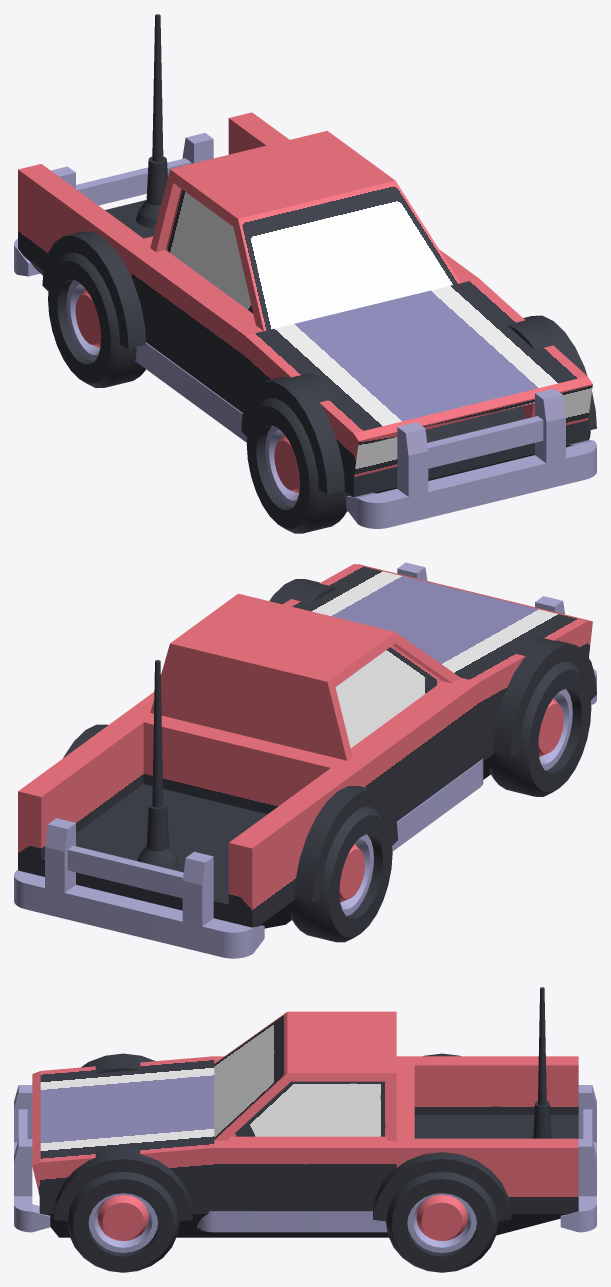
The model's file is race_pickup_01-red.fbx.
The picture shows the model from 3 angles, top to bottom: view 1: azimuth 30°, elevation 25°; view 2: azimuth 150°, elevation 25°; view 3: azimuth 270°, elevation 25°; orthographic projection. The views are drawn at different scales.
Visible parts, largest first — view 1: body_frontSports, body_topStandard, bumper_large (×2), wheel_classic (×2), body_standard, wheel_coverStandard (×3), body_backBed, bumper, detail_antenna; view 2: body_backBed, body_topStandard, body_frontSports, wheel_classic (×2), bumper_large (×2), body_standard, wheel_coverStandard (×3), detail_antenna, bumper; view 3: body_backBed, body_topStandard, body_frontSports, wheel_classic (×2), body_standard, wheel_coverStandard (×3), bumper_large (×2), bumper, detail_antenna.
Boxes of the visible parts, bbox=[...] form: body_frontSports: bbox=[245, 278, 592, 511]; body_topStandard: bbox=[150, 130, 460, 330]; bumper_large (×2): bbox=[14, 133, 596, 528]; wheel_classic (×2): bbox=[48, 252, 347, 533]; body_standard: bbox=[131, 248, 478, 412]; wheel_coverStandard (×3): bbox=[42, 231, 596, 494]; body_backBed: bbox=[18, 112, 289, 277]; bumper: bbox=[135, 342, 247, 442]; detail_antenna: bbox=[136, 14, 167, 228]; body_backBed: bbox=[18, 708, 365, 928]; body_topStandard: bbox=[150, 593, 460, 760]; body_frontSports: bbox=[282, 564, 592, 779]; wheel_classic (×2): bbox=[290, 661, 591, 942]; bumper_large (×2): bbox=[14, 562, 596, 958]; body_standard: bbox=[132, 677, 479, 821]; wheel_coverStandard (×3): bbox=[269, 579, 596, 902]; detail_antenna: bbox=[137, 660, 179, 870]; bumper: bbox=[392, 759, 483, 851]; body_backBed: bbox=[396, 1056, 578, 1235]; body_topStandard: bbox=[214, 1011, 396, 1140]; body_frontSports: bbox=[32, 1056, 214, 1237]; wheel_classic (×2): bbox=[67, 1171, 498, 1272]; body_standard: bbox=[214, 1056, 396, 1237]; wheel_coverStandard (×3): bbox=[54, 1053, 511, 1221]; bumper_large (×2): bbox=[14, 1085, 596, 1232]; bumper: bbox=[197, 1211, 387, 1232]; detail_antenna: bbox=[531, 987, 552, 1138].
Size of the model in its own units: 143 by 141 by 320.
1 material, 1 textured.
